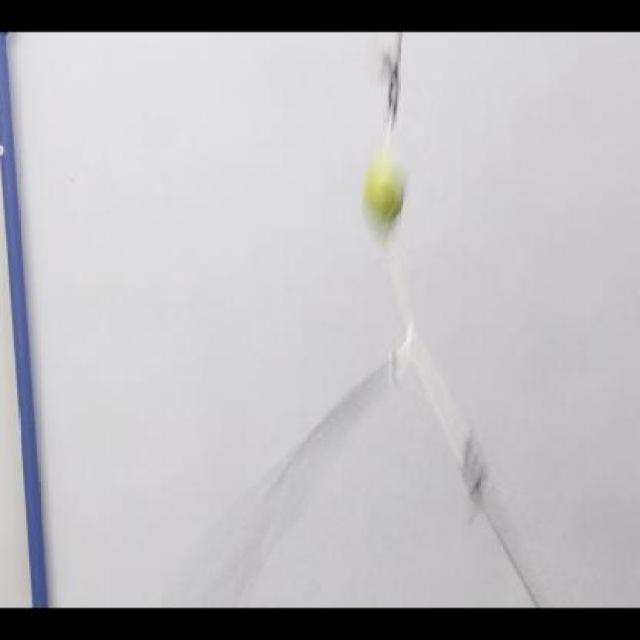baseball: (360, 152, 411, 242)
